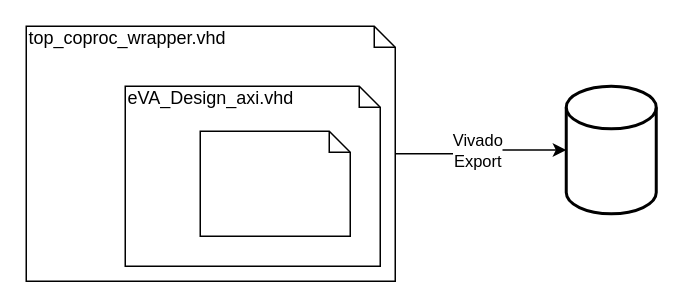
Some shapes in this 684 by 308 pixel diagram are drawn without their labels. Each missing label, with the box of its shape:
eVA_Design "Black Box": (199, 130, 350, 236)
NL, XDC: (564, 84, 657, 214)
